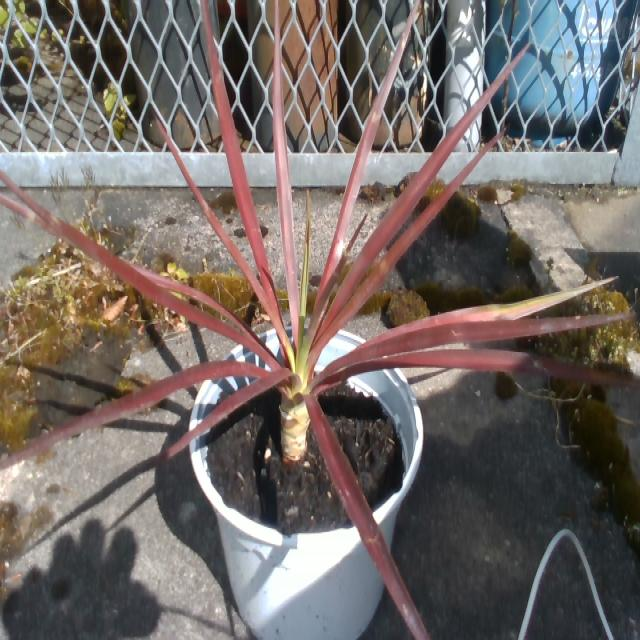Yucca-aloifolia: (0, 171, 271, 360), (301, 395, 428, 639), (330, 145, 489, 327), (329, 116, 470, 320), (0, 363, 268, 469), (320, 4, 418, 292), (156, 119, 275, 311), (202, 0, 274, 309), (317, 315, 631, 383), (373, 285, 597, 344), (320, 349, 639, 389), (156, 369, 292, 460), (132, 264, 257, 340), (273, 5, 299, 348), (472, 53, 522, 115)
